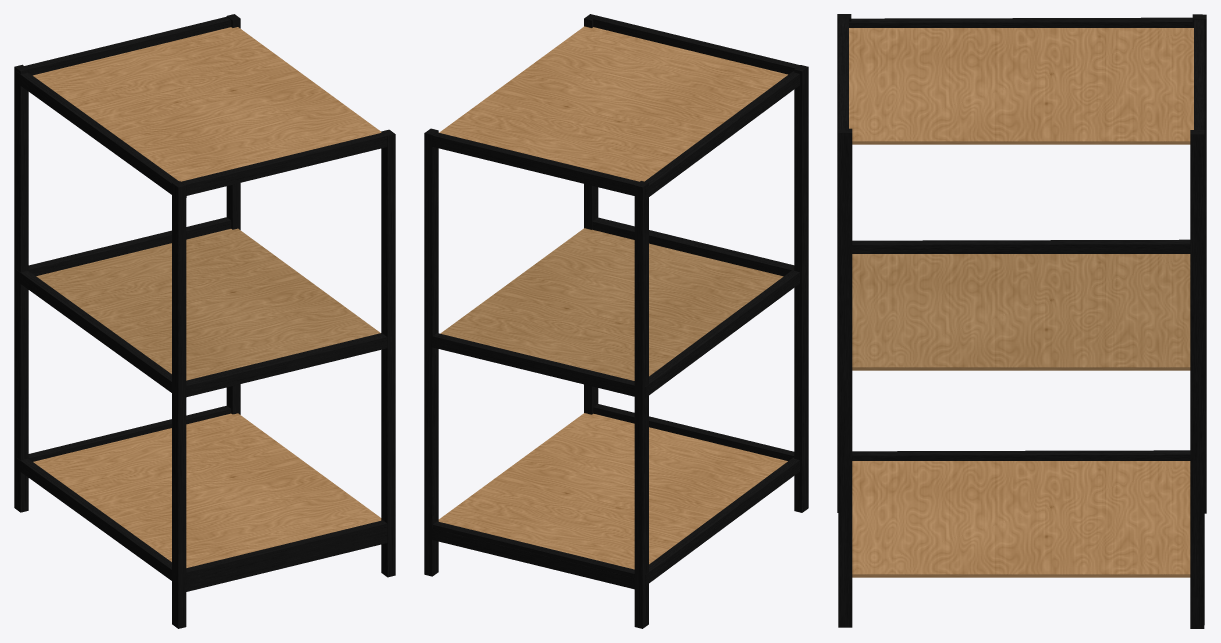
Rendered from akvaryum_rafi.glb.
3 renders of one model, left to right at view 1: azimuth 30°, elevation 25°; view 2: azimuth 150°, elevation 25°; view 3: azimuth 270°, elevation 25°, orthographic. The views are drawn at different scales.
Parts seen in each view (by area): view 1: prisma-m7, prisma-m3, prisma-m1, prisma-m12, prisma-m2, prisma-m11, prisma-m0, prisma-m9, prisma-m17, prisma-m16, prisma-m15, prisma-m13 (+5 smaller); view 2: prisma-m7, prisma-m3, prisma-m1, prisma-m11, prisma-m12, prisma-m10, prisma-m8, prisma-m4, prisma-m17, prisma-m16, prisma-m15, prisma-m0 (+5 smaller); view 3: prisma-m7, prisma-m1, prisma-m3, prisma-m10, prisma-m2, prisma-m15, prisma-m16, prisma-m17, prisma-m11, prisma-m9, prisma-m8, prisma-m12.
Boxes of the visible parts, x1,y1,x2,y2 form: prisma-m7: [33, 27, 381, 181]; prisma-m3: [33, 413, 381, 567]; prisma-m1: [36, 228, 380, 380]; prisma-m12: [172, 181, 186, 628]; prisma-m2: [381, 129, 395, 577]; prisma-m11: [14, 64, 28, 512]; prisma-m0: [186, 333, 387, 397]; prisma-m9: [180, 132, 389, 195]; prisma-m17: [16, 71, 186, 197]; prisma-m16: [16, 457, 171, 580]; prisma-m15: [16, 269, 171, 392]; prisma-m13: [186, 520, 387, 582]; prisma-m7: [439, 26, 787, 181]; prisma-m3: [438, 413, 787, 569]; prisma-m1: [440, 228, 783, 380]; prisma-m11: [634, 181, 648, 628]; prisma-m12: [794, 65, 808, 512]; prisma-m10: [424, 128, 438, 576]; prisma-m8: [432, 132, 639, 195]; prisma-m4: [432, 333, 634, 396]; prisma-m17: [645, 71, 799, 199]; prisma-m16: [645, 457, 799, 586]; prisma-m15: [645, 270, 799, 398]; prisma-m0: [592, 217, 794, 276]; prisma-m7: [849, 28, 1193, 144]; prisma-m1: [852, 254, 1190, 370]; prisma-m3: [852, 461, 1190, 577]; prisma-m10: [1190, 130, 1204, 628]; prisma-m2: [838, 128, 852, 627]; prisma-m15: [852, 239, 1190, 253]; prisma-m16: [852, 450, 1190, 460]; prisma-m17: [849, 17, 1192, 27]; prisma-m11: [1192, 14, 1206, 513]; prisma-m9: [838, 17, 848, 129]; prisma-m8: [1194, 19, 1204, 129]; prisma-m12: [837, 14, 851, 512].
Bounding box in the file's own units: 0.8277 × 1.59 × 1.07.
Materials: 18 (18 with a texture image).
